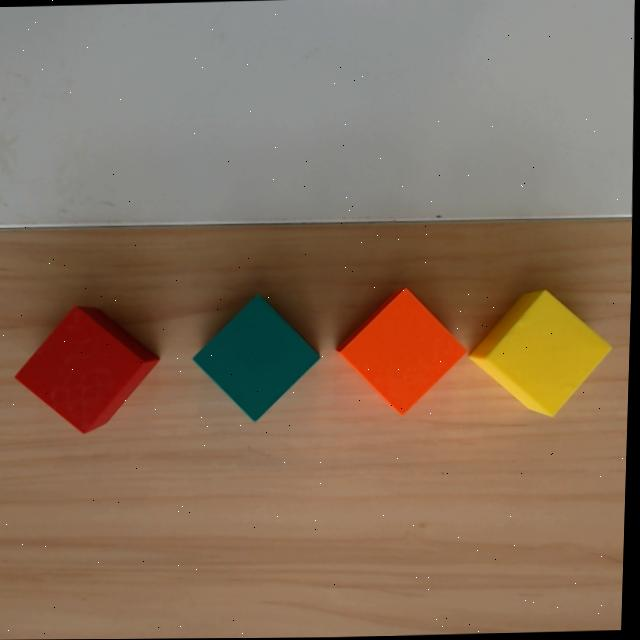Kubus-Hijau-505050: (191, 291, 320, 420)
Kubus-Jingga-505050: (334, 282, 468, 416)
Kubus-Kuning-505050: (467, 278, 612, 422)
Kubus-Merah-505050: (14, 294, 159, 440)
